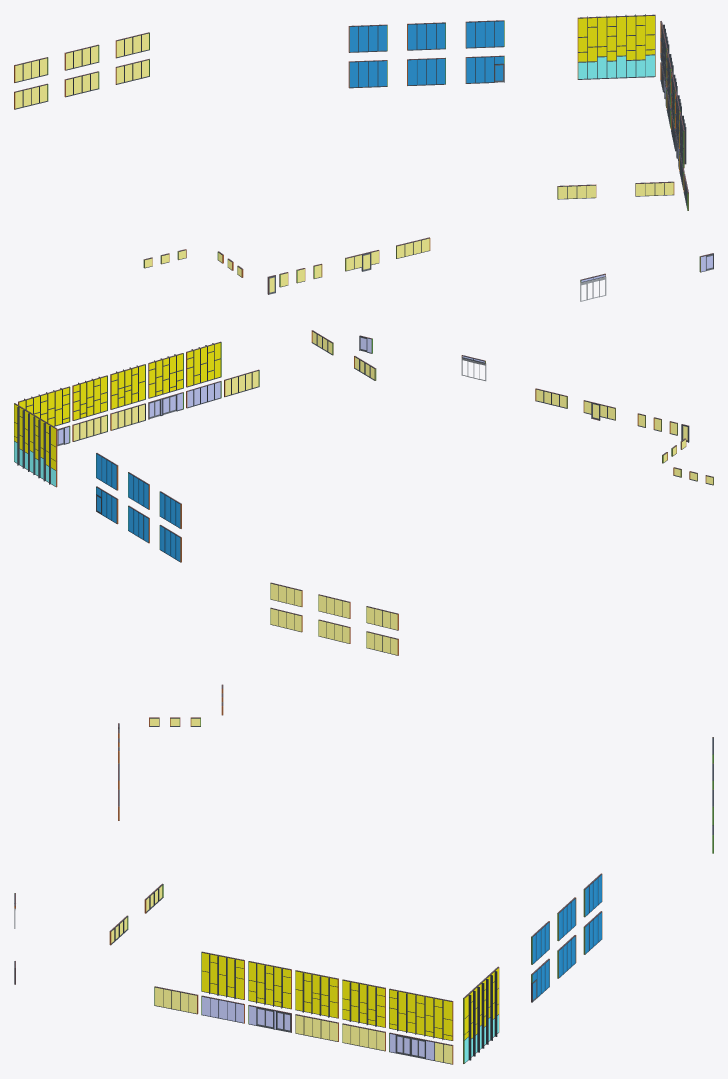
File: second-harvest-display.glb
3 renders of one model, top to bottom at view 1: azimuth 30°, elevation 25°; view 2: azimuth 150°, elevation 25°; view 3: azimuth 270°, elevation 25°, orthographic. The views are drawn at different scales.
Bounding box in the file's own units: 90.23 × 8.53 × 82.35.
